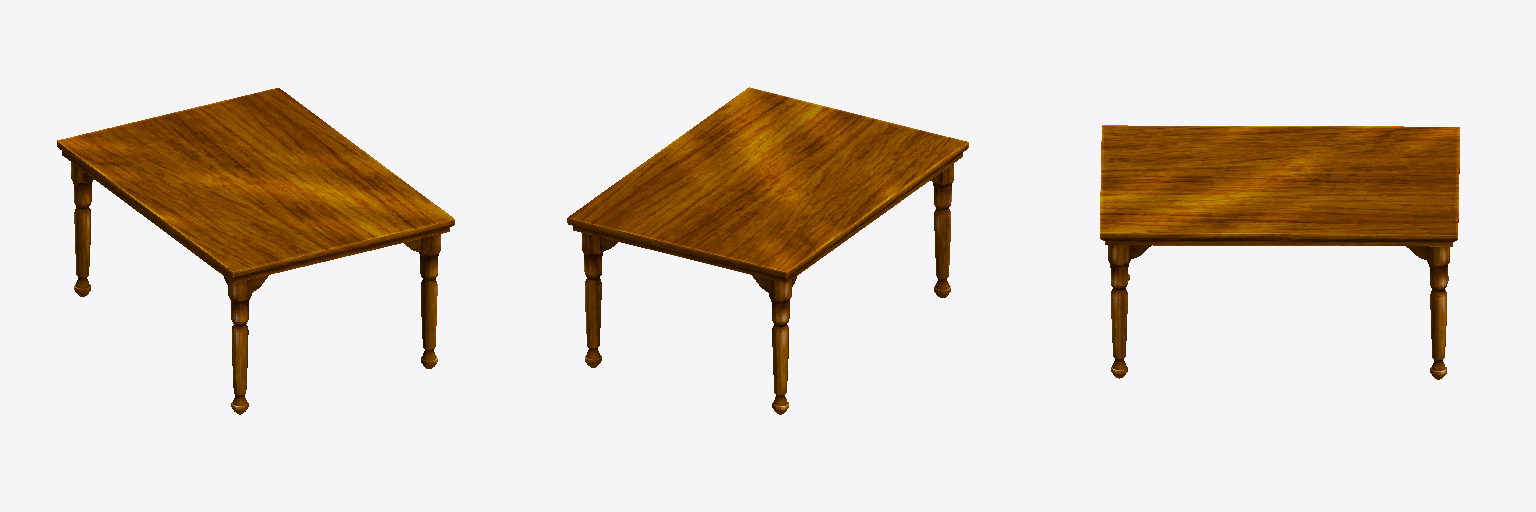
3 views of the same model, side by side, from view 1: azimuth 30°, elevation 25°; view 2: azimuth 150°, elevation 25°; view 3: azimuth 270°, elevation 25° (orthographic).
Visible parts, largest first — view 1: Handle1; view 2: Handle1; view 3: Handle1.
Part boxes in pixels (bbox=[...]): Handle1: bbox=[57, 88, 454, 414]; Handle1: bbox=[567, 87, 968, 414]; Handle1: bbox=[1100, 125, 1459, 379].
Size of the model in its own units: 0.7184 by 0.4663 by 1.
1 materials, 1 textured.